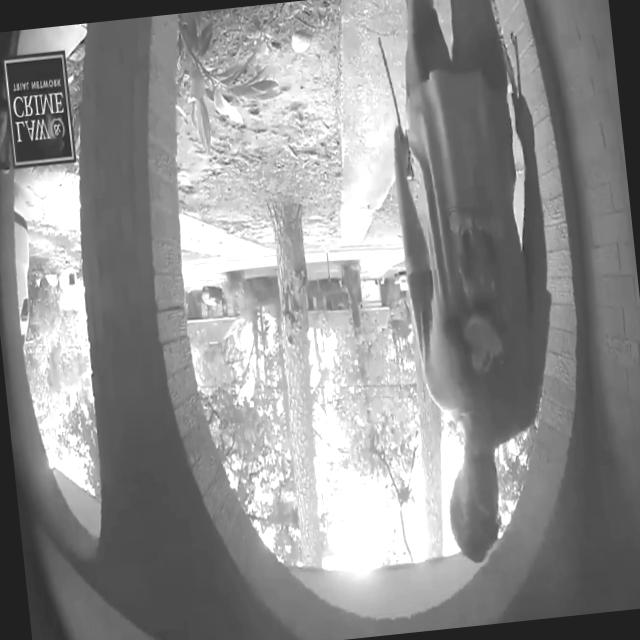weapon: (351, 0, 610, 566)
